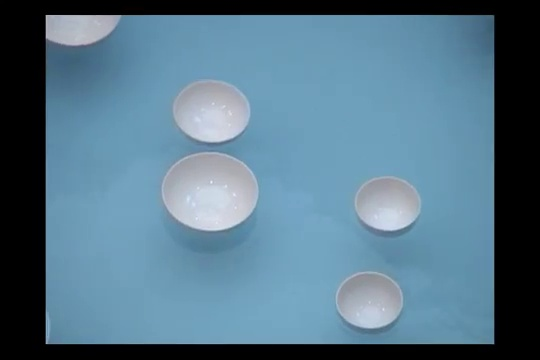bowl: (162, 151, 259, 233), (174, 80, 251, 145), (336, 272, 403, 334), (354, 177, 421, 238), (45, 15, 120, 49)
